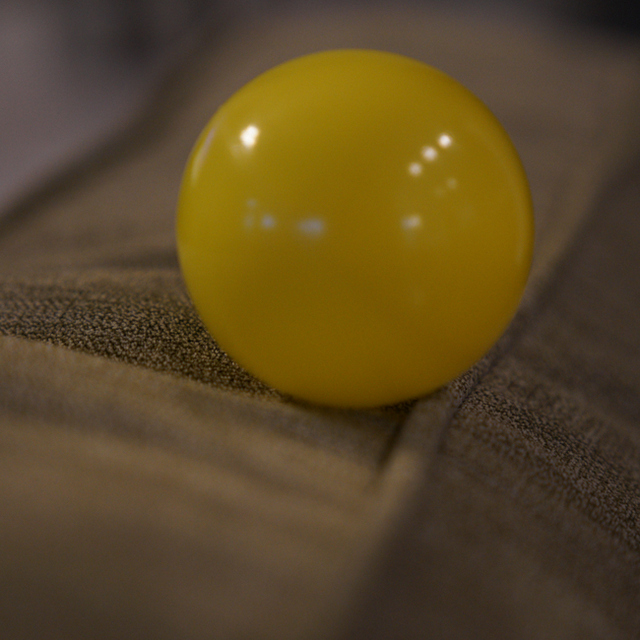Ball: (172, 55, 538, 404)
